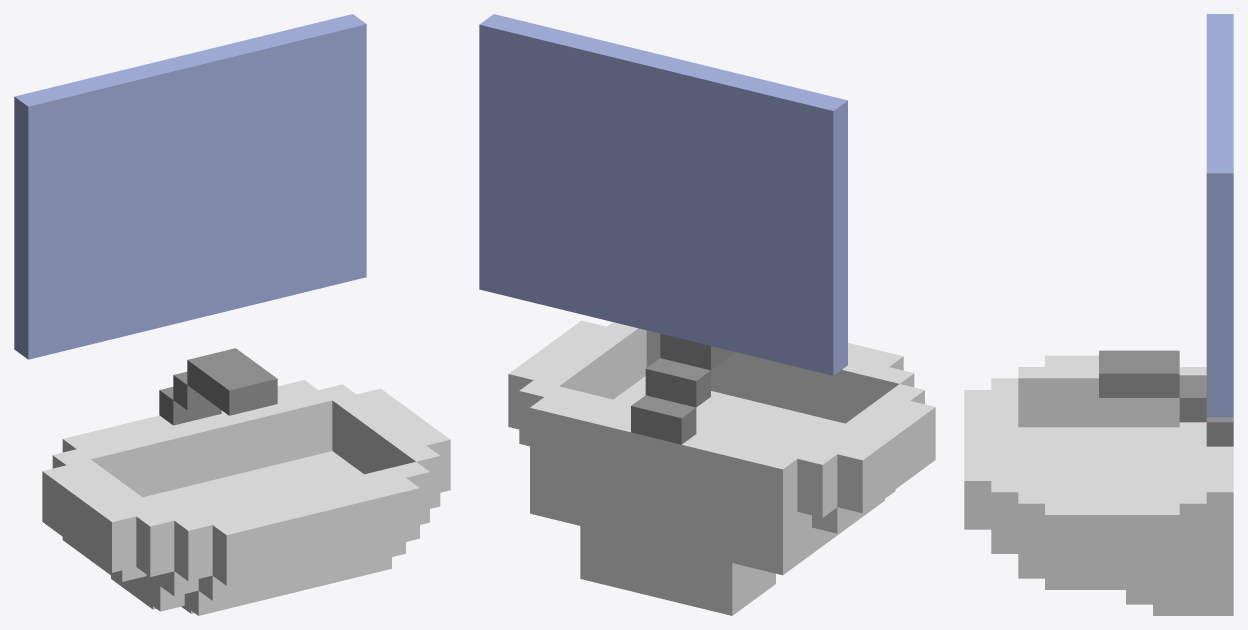
Rendered from Sink.dae.
3 renders of one model, left to right at view 1: azimuth 30°, elevation 25°; view 2: azimuth 150°, elevation 25°; view 3: azimuth 270°, elevation 25°, orthographic. The views are drawn at different scales.
Visible parts, largest first — view 1: sink; view 2: sink; view 3: sink.
Part boxes in pixels (left/top/right/bottom): sink: left=14, top=14, right=450, bottom=615; sink: left=479, top=14, right=935, bottom=615; sink: left=964, top=14, right=1233, bottom=615.
Bounding box in the file's own units: 14 × 20 × 10.
1 material, 1 textured.
